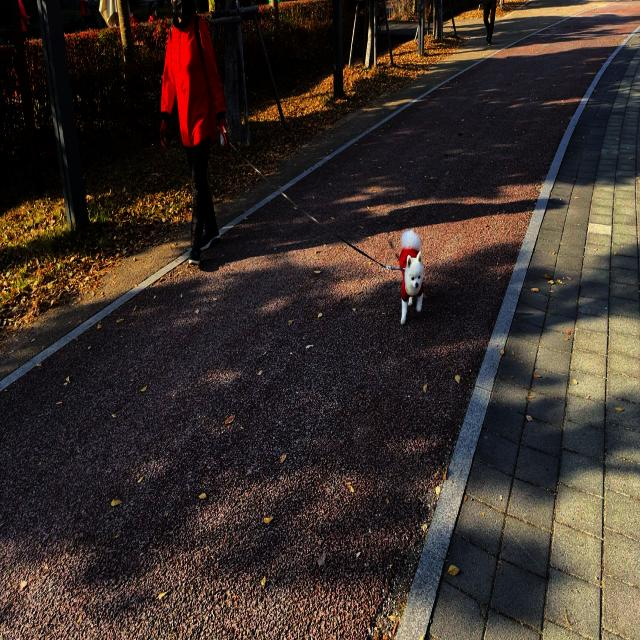Leashed_Dog: (190, 101, 425, 327)
